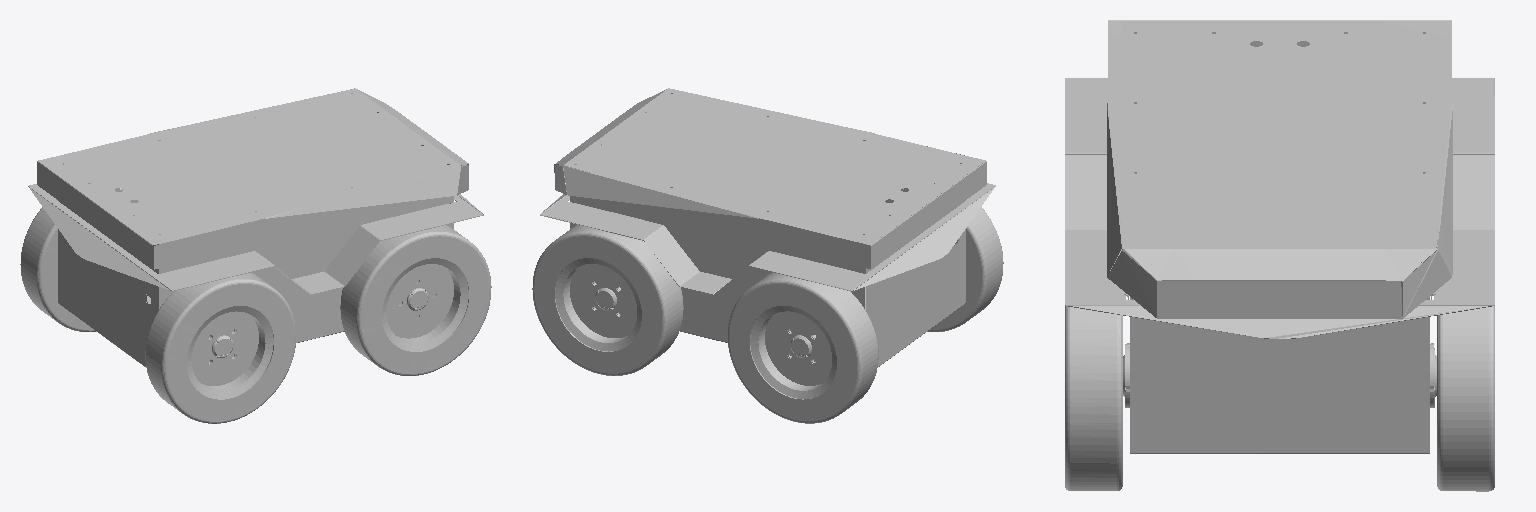
The robot description file, URDF, robot "yhs_chassis_description":
<robot name="yhs_chassis_description">
  <link name="base_link">
    <visual>
      <origin
        xyz="-0.55 -0.7 0"
        rpy="0 0 0" />
      <geometry>
        <mesh
          filename="package://yhs_chassis_description/meshes/DGT-001L.STL"/>
      </geometry>
      <material
        name="">
        <color
          rgba="0.8 0.8 0.8 1" />
      </material>
    </visual>
  </link>
</robot>

--- Render facts (derived) ---
3 views of the same robot in one strip: view 1: azimuth 30°, elevation 25°; view 2: azimuth 150°, elevation 25°; view 3: azimuth 270°, elevation 25° (orthographic).
Model yhs_chassis_description with 1 links and 0 joints (none), rooted at base_link, posed every joint at zero.
Visible links, largest first — view 1: base_link; view 2: base_link; view 3: base_link.
Link boxes in pixels (<box>): base_link: <box>20,88,491,423</box>; base_link: <box>532,88,1003,423</box>; base_link: <box>1065,20,1494,491</box>.
Bounding box of the posed robot: 1.05 × 0.743 × 0.5196 m (x, y, z).
1 mesh visuals loaded from 1 distinct referenced files (1 binary STL).